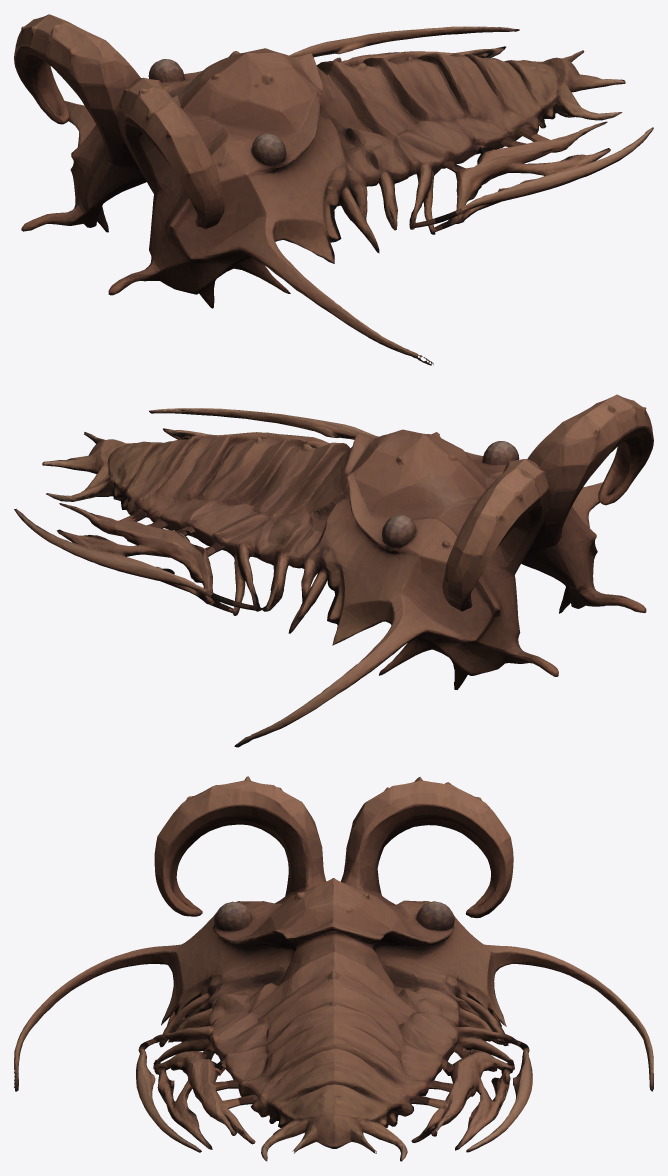
The picture shows the model from 3 angles, top to bottom: view 1: azimuth 30°, elevation 25°; view 2: azimuth 150°, elevation 25°; view 3: azimuth 270°, elevation 25°; orthographic projection.
Visible parts, largest first — view 1: world; view 2: world; view 3: world.
Boxes of the visible parts, <box> form: world: <box>14,14,653,365</box>; world: <box>14,394,653,747</box>; world: <box>14,776,653,1161</box>.
Bounding box in the file's own units: 0.0587 × 0.0243 × 0.0608.
1 material, 1 textured.
